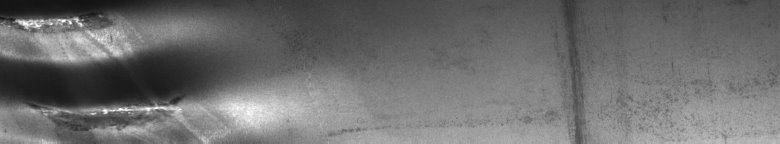ke: (4, 4, 197, 136)
